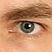eye: (21, 23, 34, 33)
